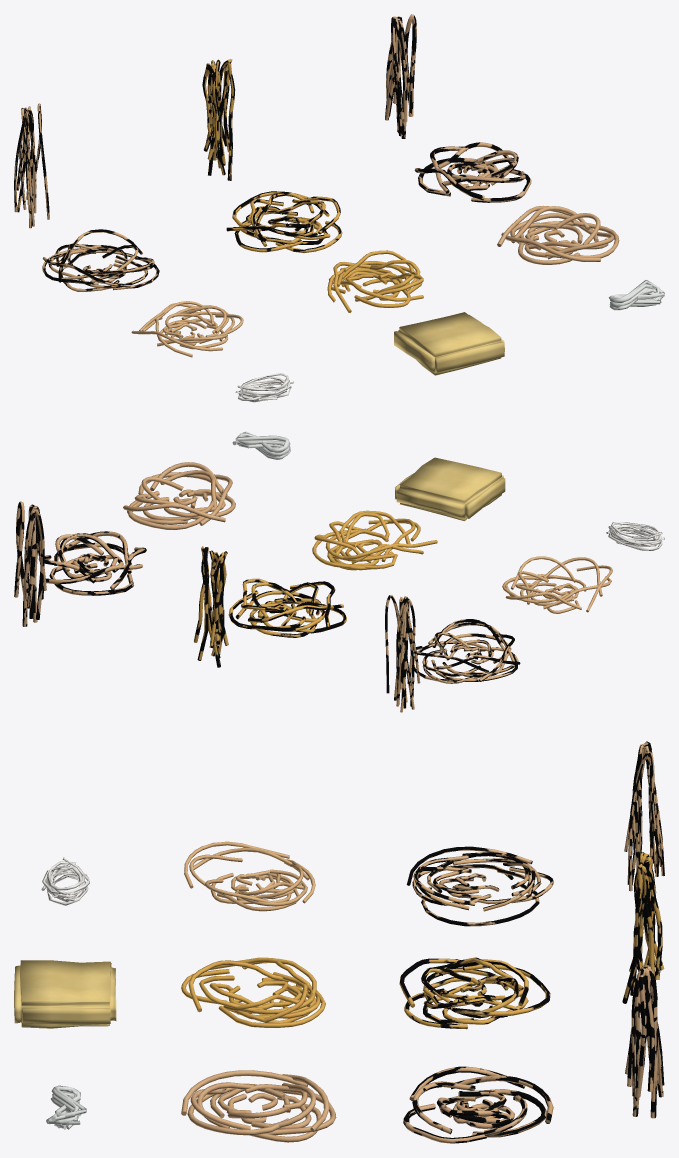
Rendered from Phase3_Noodles_P1.glb.
3 views of the same model, one above another, from view 1: azimuth 30°, elevation 25°; view 2: azimuth 150°, elevation 25°; view 3: azimuth 270°, elevation 25° (orthographic). The views are drawn at different scales.
Parts seen in each view (by area): view 1: InstantNoodle_Raw, KonjacNoodle_Bed_A, InstantNoodle_Bed_B, KonjacNoodle_Bed_B, GlassNoodle_Bed_B, InstantNoodle_Bed_A, GlassNoodle_Bed_A, InstantNoodle_Lift, KonjacNoodle_Lift, GlassNoodle_Lift, GlassNoodle_Raw, KonjacNoodle_Raw; view 2: InstantNoodle_Raw, KonjacNoodle_Bed_A, InstantNoodle_Bed_B, InstantNoodle_Bed_A, KonjacNoodle_Bed_B, GlassNoodle_Bed_B, GlassNoodle_Bed_A, KonjacNoodle_Lift, InstantNoodle_Lift, GlassNoodle_Lift, GlassNoodle_Raw, KonjacNoodle_Raw; view 3: KonjacNoodle_Bed_A, InstantNoodle_Raw, InstantNoodle_Bed_B, KonjacNoodle_Bed_B, GlassNoodle_Bed_B, InstantNoodle_Bed_A, GlassNoodle_Bed_A, KonjacNoodle_Lift, InstantNoodle_Lift, GlassNoodle_Lift, GlassNoodle_Raw, KonjacNoodle_Raw.
Boxes of the visible parts, box(x1,y1,x2,y2) form: InstantNoodle_Raw: box(394, 312, 504, 375); KonjacNoodle_Bed_A: box(497, 205, 619, 264); InstantNoodle_Bed_B: box(226, 191, 342, 252); KonjacNoodle_Bed_B: box(414, 142, 531, 202); GlassNoodle_Bed_B: box(42, 229, 159, 291); InstantNoodle_Bed_A: box(327, 250, 423, 312); GlassNoodle_Bed_A: box(131, 301, 243, 357); InstantNoodle_Lift: box(202, 59, 235, 180); KonjacNoodle_Lift: box(385, 14, 416, 138); GlassNoodle_Lift: box(14, 103, 49, 228); GlassNoodle_Raw: box(235, 373, 293, 402); KonjacNoodle_Raw: box(608, 280, 664, 310); InstantNoodle_Raw: box(395, 457, 505, 520); KonjacNoodle_Bed_A: box(123, 462, 235, 529); InstantNoodle_Bed_B: box(228, 578, 346, 637); InstantNoodle_Bed_A: box(312, 510, 437, 570); KonjacNoodle_Bed_B: box(38, 531, 146, 595); GlassNoodle_Bed_B: box(413, 619, 520, 683); GlassNoodle_Bed_A: box(502, 556, 612, 613); KonjacNoodle_Lift: box(14, 501, 46, 626); InstantNoodle_Lift: box(194, 546, 228, 667); GlassNoodle_Lift: box(385, 595, 420, 712); GlassNoodle_Raw: box(606, 522, 664, 550); KonjacNoodle_Raw: box(232, 431, 290, 459); KonjacNoodle_Bed_A: box(181, 1070, 336, 1142); InstantNoodle_Raw: box(14, 960, 116, 1028); InstantNoodle_Bed_B: box(399, 957, 550, 1029); KonjacNoodle_Bed_B: box(403, 1066, 553, 1143); GlassNoodle_Bed_B: box(406, 846, 553, 926); InstantNoodle_Bed_A: box(181, 957, 325, 1027); GlassNoodle_Bed_A: box(184, 841, 315, 911); KonjacNoodle_Lift: box(625, 965, 664, 1118); InstantNoodle_Lift: box(622, 852, 664, 1003); GlassNoodle_Lift: box(624, 741, 664, 891); GlassNoodle_Raw: box(41, 857, 89, 905); KonjacNoodle_Raw: box(46, 1085, 86, 1129).
Bounding box in the file's own units: 0.556 × 0.1387 × 0.54.
6 materials, 6 textured.
